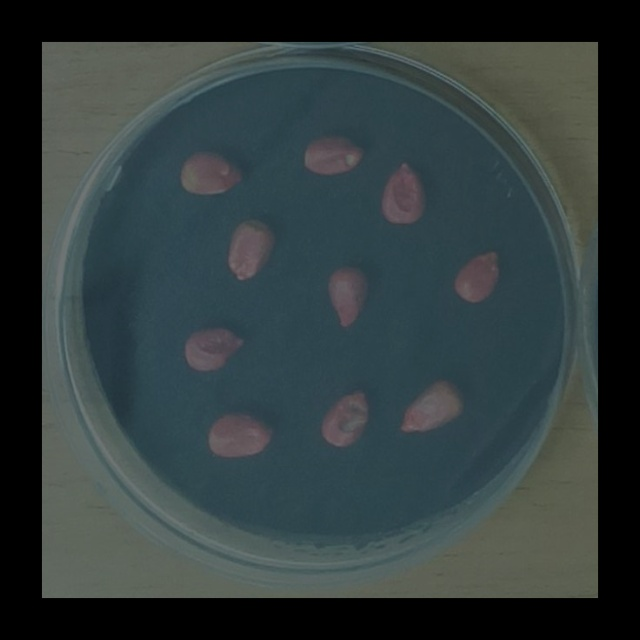Zea mays: (393, 371, 470, 439), (221, 211, 281, 286), (178, 319, 253, 378), (373, 154, 432, 229), (314, 379, 374, 452), (202, 406, 280, 462), (174, 142, 249, 200), (321, 259, 374, 334), (299, 127, 372, 180), (449, 241, 505, 306)
